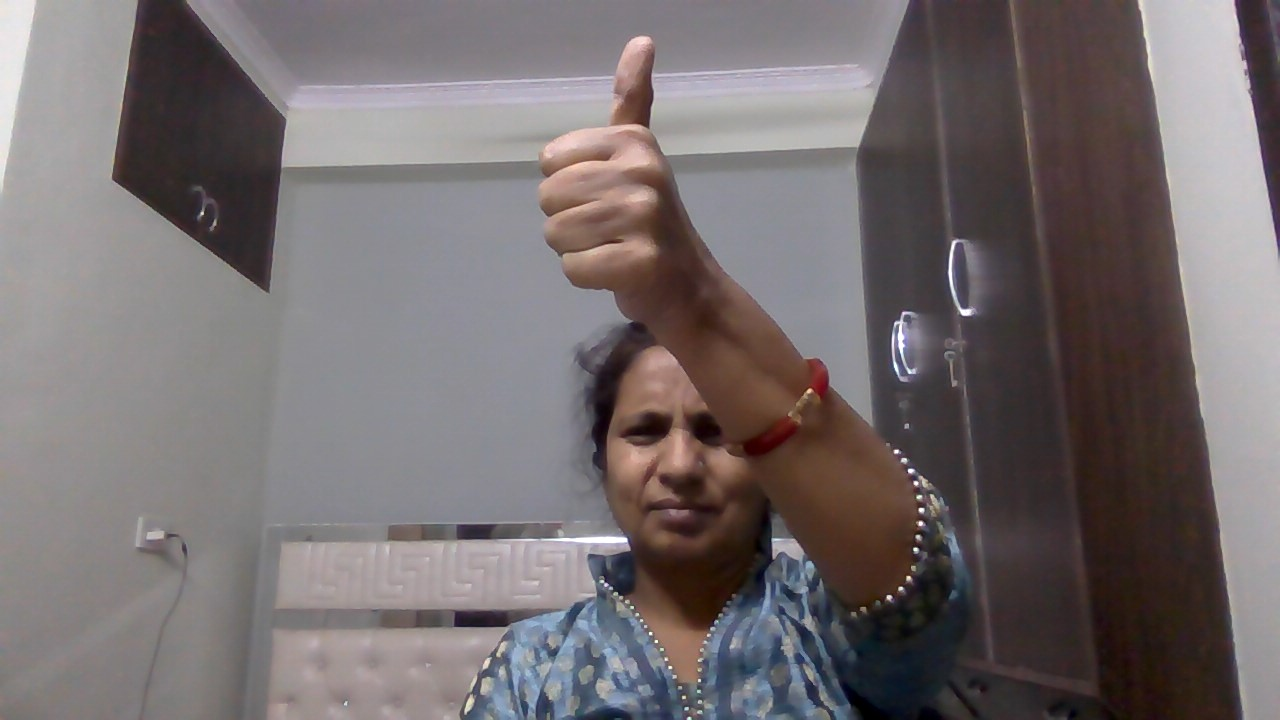Save: (526, 19, 715, 353)
